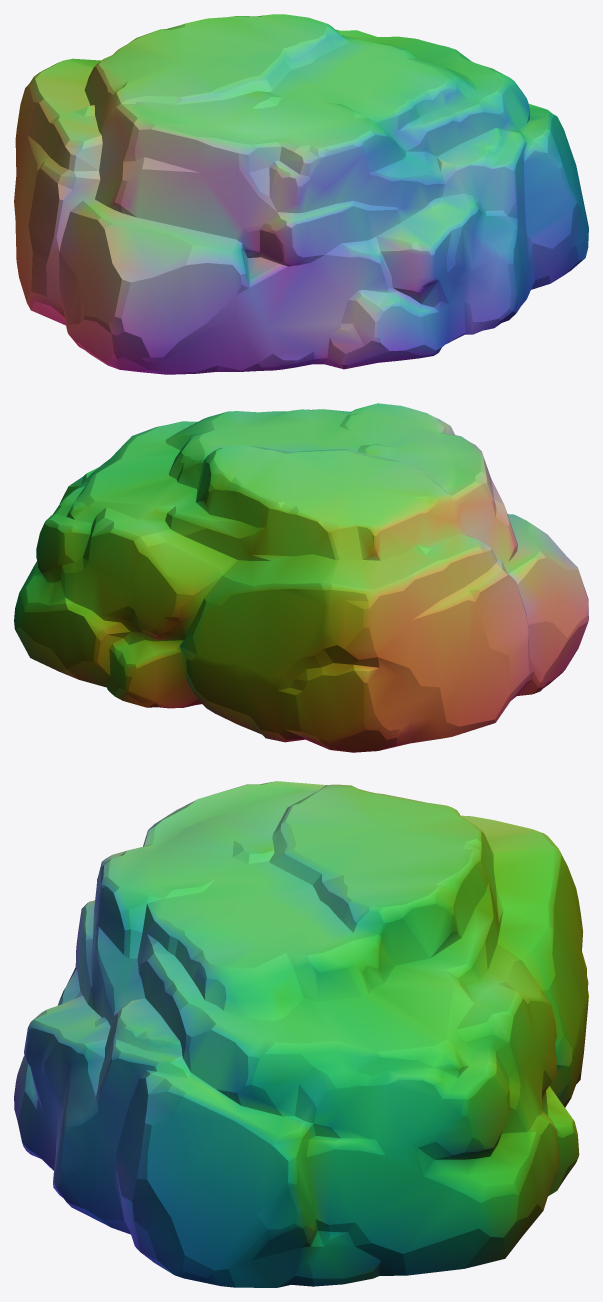
3 renders of one model, top to bottom at view 1: azimuth 30°, elevation 25°; view 2: azimuth 150°, elevation 25°; view 3: azimuth 270°, elevation 25°, orthographic. The views are drawn at different scales.
Visible parts, largest first — view 1: st_gc_030_lod0; view 2: st_gc_030_lod0; view 3: st_gc_030_lod0.
Boxes of the visible parts, x1,y1,x2,y2 form: st_gc_030_lod0: [14, 14, 588, 374]; st_gc_030_lod0: [14, 403, 588, 752]; st_gc_030_lod0: [14, 781, 588, 1287].
Size of what is drawn, in the model's own units: 819 by 336 by 656.
